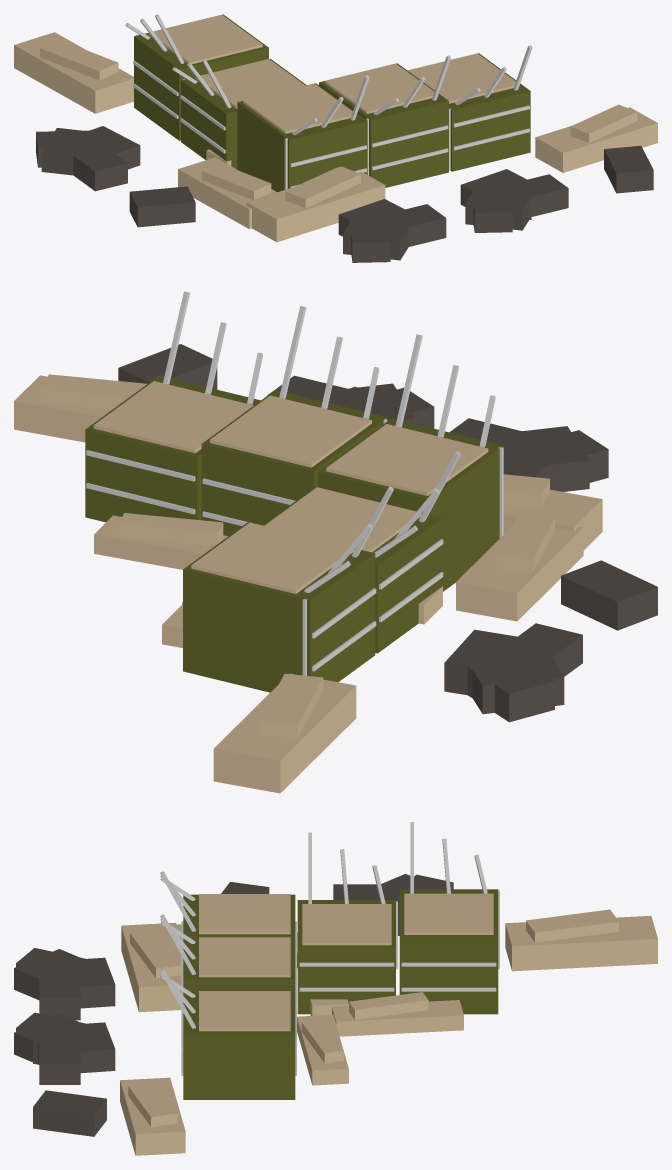
The model's file is SM_HescoEsquina_v1_Geotextil_e2_MuyDanado_LOD0.fbx.
The picture shows the model from 3 angles, top to bottom: view 1: azimuth 30°, elevation 25°; view 2: azimuth 150°, elevation 25°; view 3: azimuth 270°, elevation 25°; orthographic projection. The views are drawn at different scales.
Parts seen in each view (by area): view 1: SM_hesco_piezas_v6_LOD0; view 2: SM_hesco_piezas_v6_LOD0; view 3: SM_hesco_piezas_v6_LOD0.
Part boxes in pixels (x1,y1,x2,y2): SM_hesco_piezas_v6_LOD0: (14, 14, 657, 262); SM_hesco_piezas_v6_LOD0: (14, 291, 657, 793); SM_hesco_piezas_v6_LOD0: (14, 822, 657, 1155).
Bounding box in the file's own units: 6.71 × 1.64 × 7.01.
